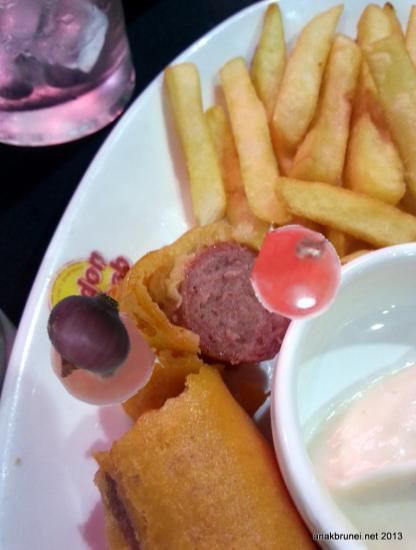Onion: (40, 291, 134, 385)
Redcurrant: (49, 306, 151, 408), (251, 226, 347, 322)
